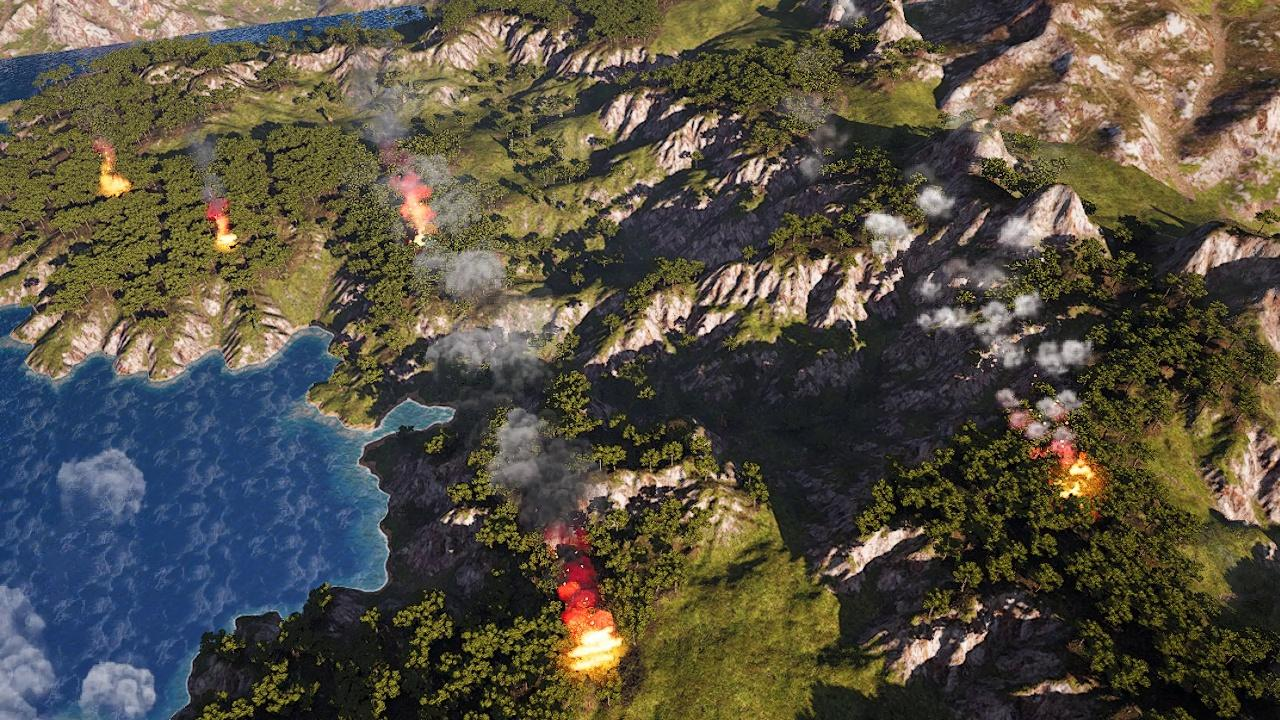fire: (565, 625, 621, 672), (400, 189, 436, 237), (1058, 453, 1095, 497), (102, 145, 132, 194), (211, 212, 235, 246)
smoke: (345, 55, 621, 621), (871, 168, 1104, 457), (0, 578, 158, 720), (56, 443, 148, 525), (787, 94, 855, 185), (183, 130, 225, 220)
